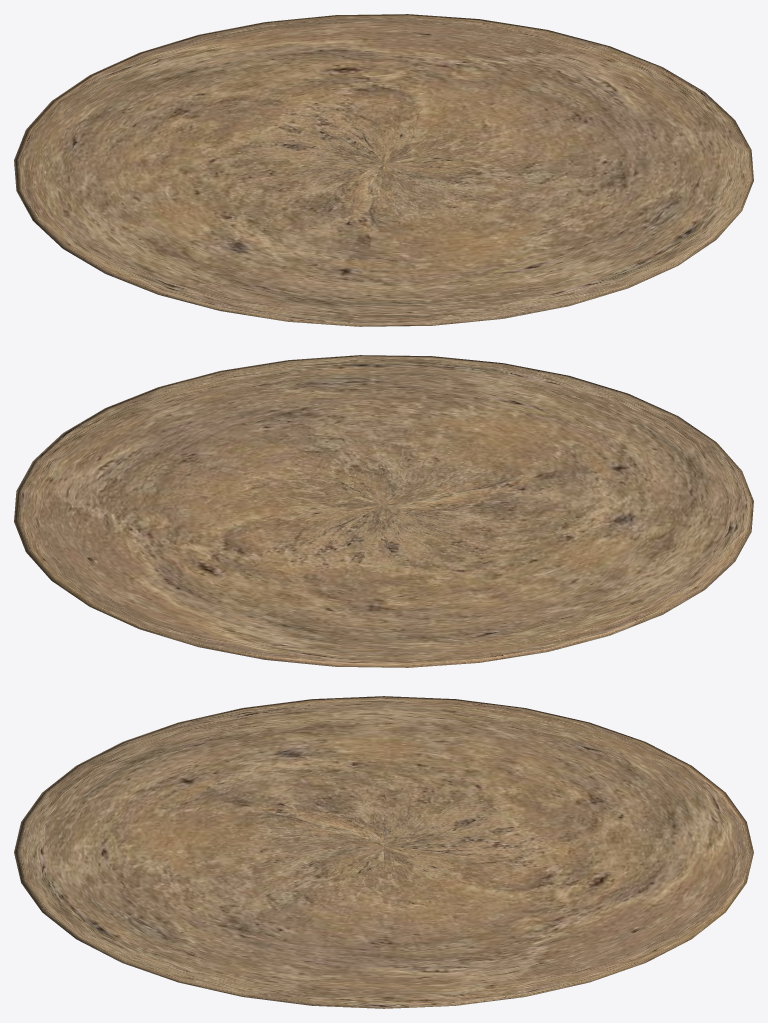
File: CampfireGround.fbx
The picture shows the model from 3 angles, top to bottom: view 1: azimuth 30°, elevation 25°; view 2: azimuth 150°, elevation 25°; view 3: azimuth 270°, elevation 25°; orthographic projection.
Parts seen in each view (by area): view 1: Sphere001; view 2: Sphere001; view 3: Sphere001.
Part boxes in pixels (x1,y1,x2,y2): Sphere001: (14,14,753,326); Sphere001: (14,355,753,667); Sphere001: (14,696,753,1008).
Bounding box in the file's own units: 200 × 3.66 × 200.
1 material, 1 textured.
